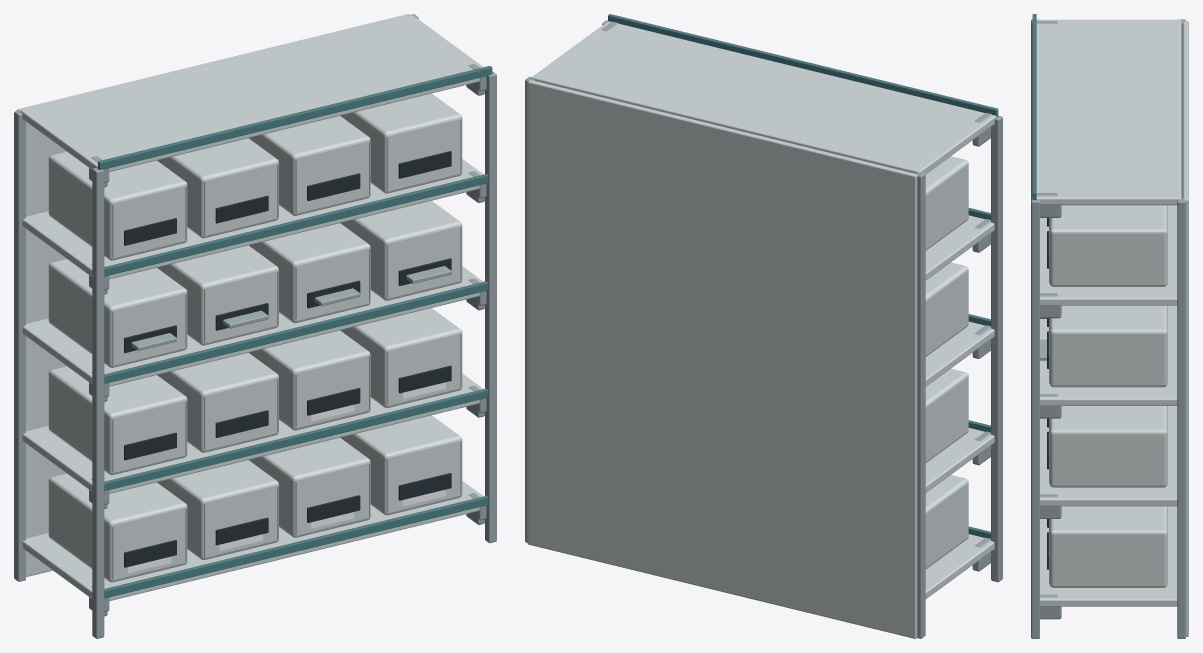
Rendered from SF_PPEDispenser.fbx.
3 renders of one model, left to right at view 1: azimuth 30°, elevation 25°; view 2: azimuth 150°, elevation 25°; view 3: azimuth 270°, elevation 25°, orthographic. The views are drawn at different scales.
Parts seen in each view (by area): view 1: SF_PPEDispenser; view 2: SF_PPEDispenser; view 3: SF_PPEDispenser.
Part boxes in pixels (<box>): SF_PPEDispenser: <box>14,14,496,638</box>; SF_PPEDispenser: <box>525,14,1002,638</box>; SF_PPEDispenser: <box>1031,14,1188,638</box>.
Bounding box in the file's own units: 184 × 208 × 66.95.
